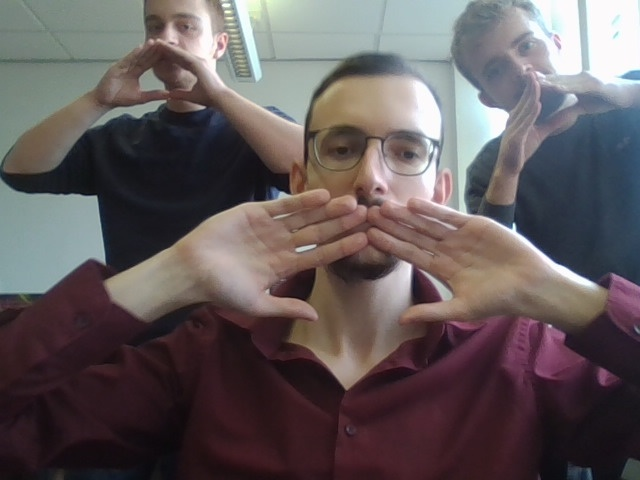thankyou: (178, 189, 541, 323), (503, 72, 640, 170), (97, 40, 216, 110)
